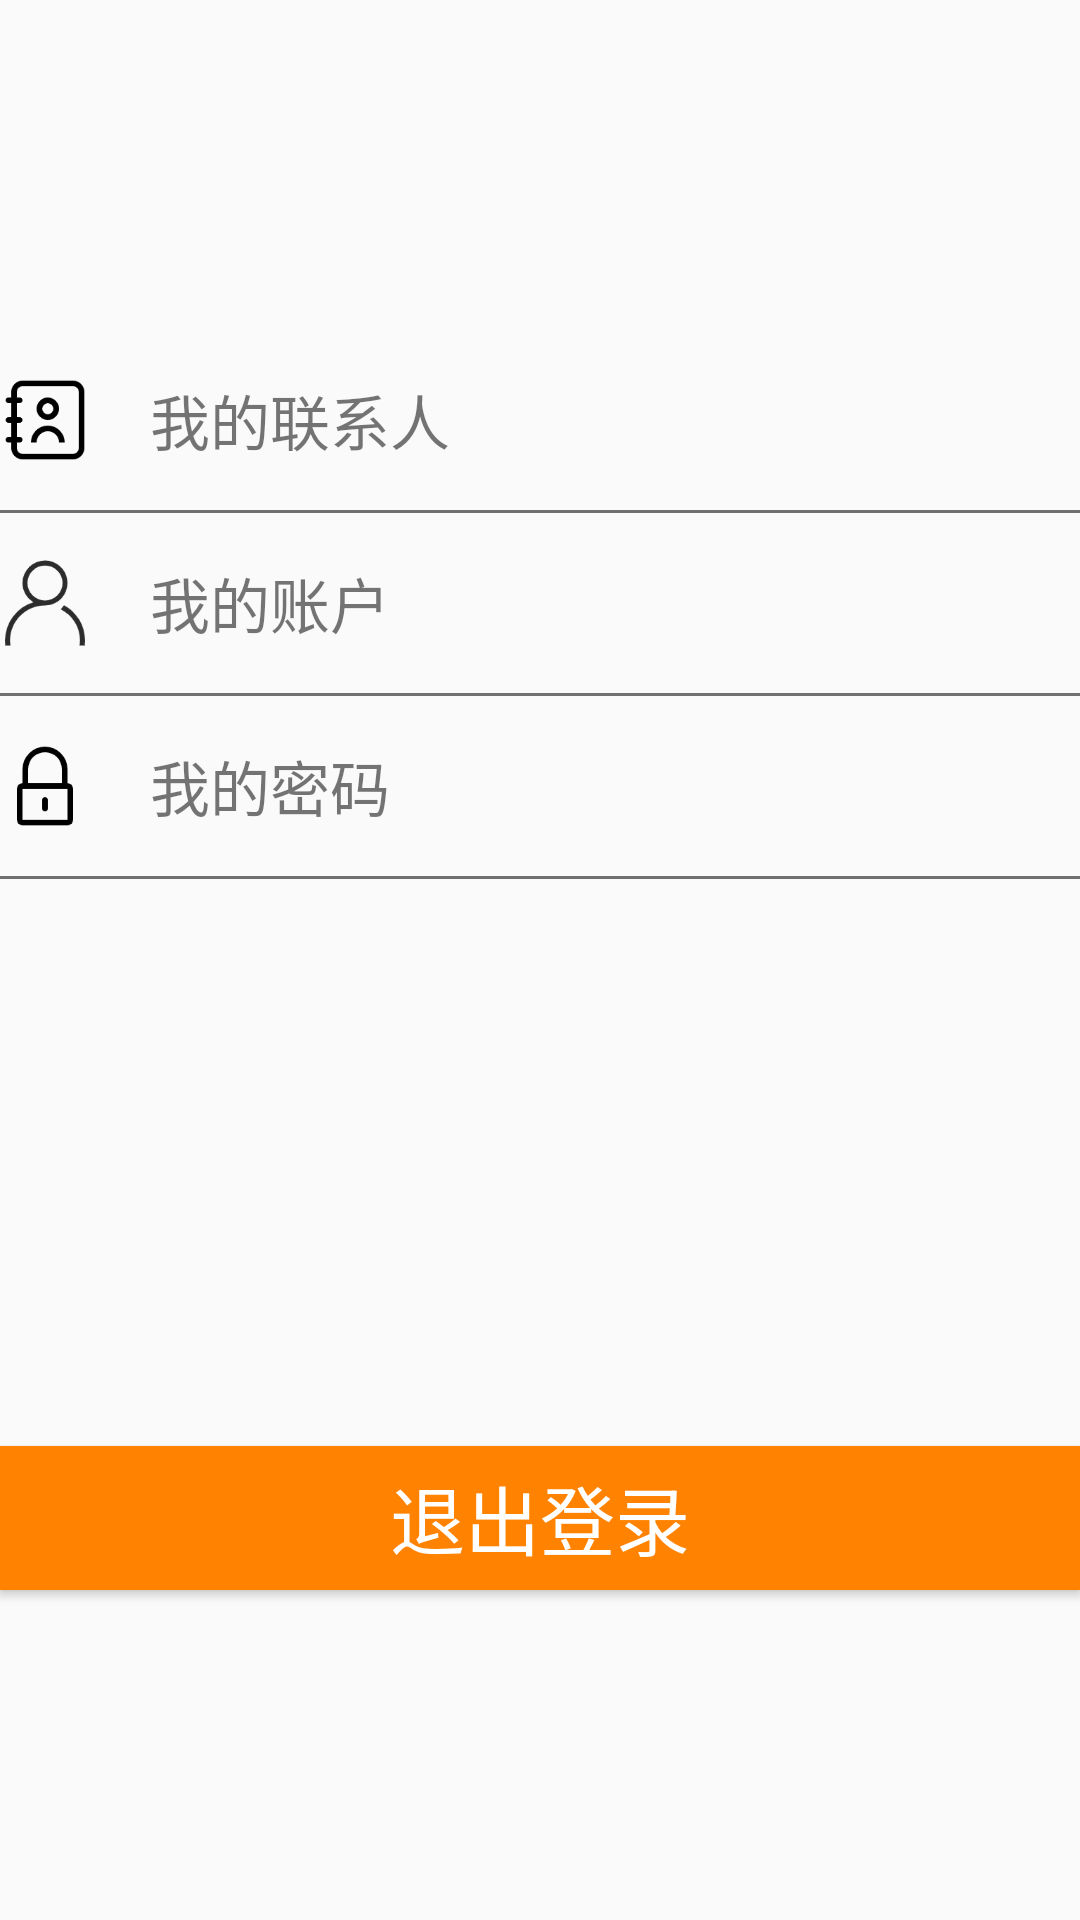

Icons on this 1080 × 1920 Android screen, each with its box as (x1, y1, x2, y2):
linkman: (5, 380, 85, 460)
lock: (17, 746, 73, 826)
